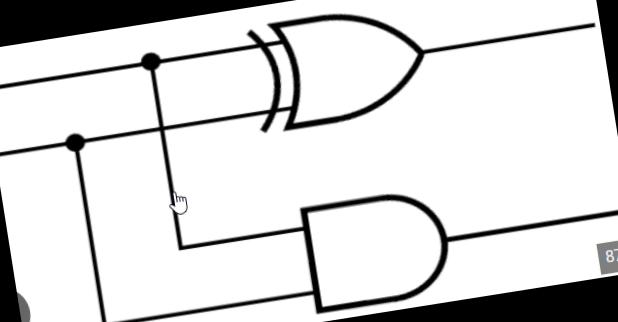and: (289, 176, 463, 322)
or: (240, 0, 438, 140)
